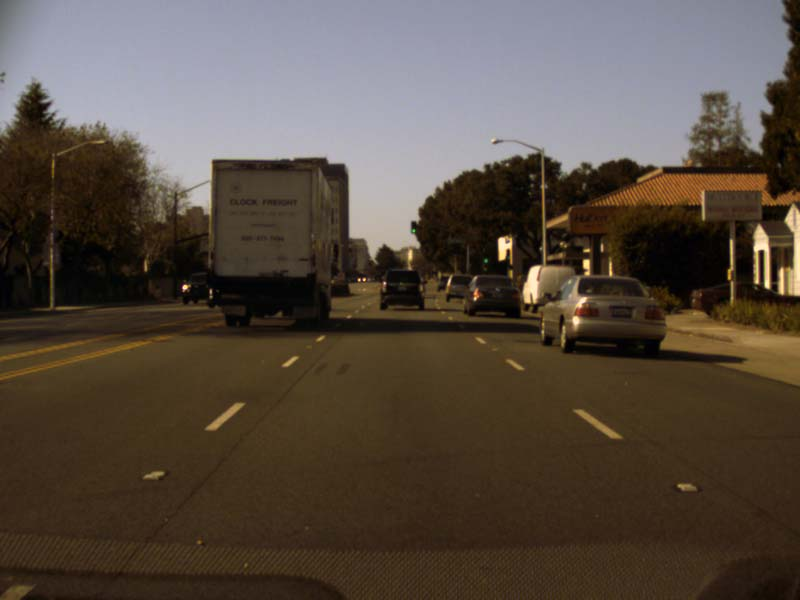Green: (410, 220, 416, 233), (483, 252, 489, 264)
